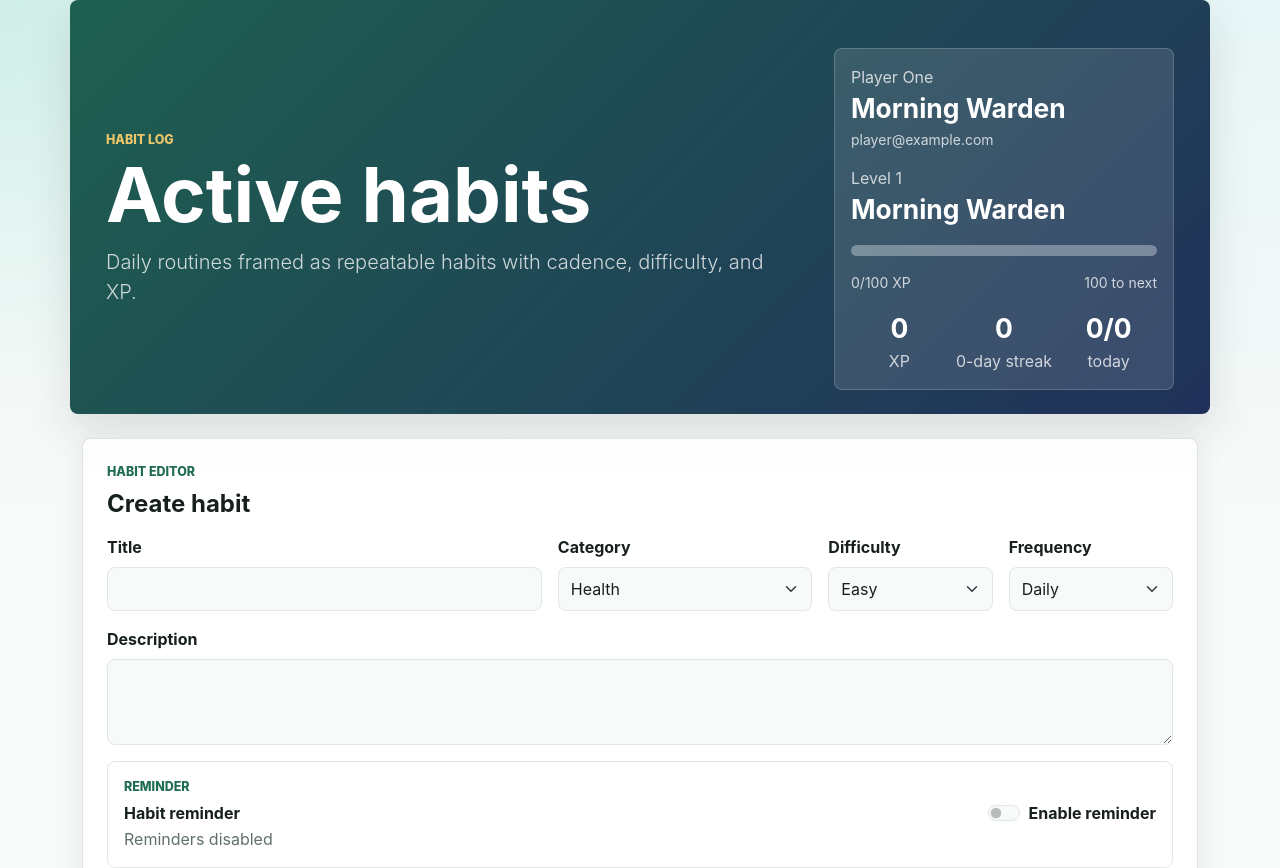
Scenario: Habits API view › creates habits through the API
The width and height of the screenshot is (1280, 868).
Type "Study sprint" into the field with id "habit-title".
click(324, 588); type("Study sprint")  # box [107,566,542,610]
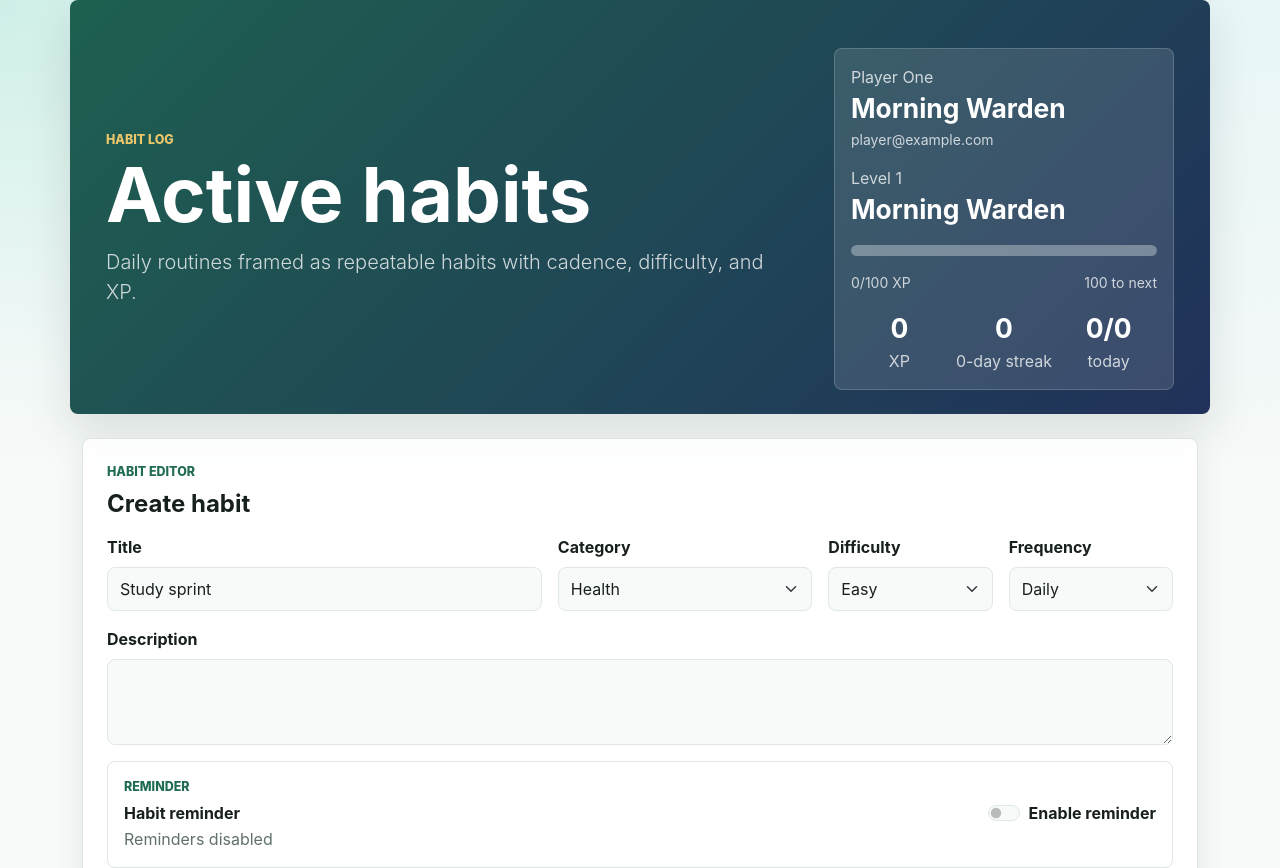
Type "Read one chapter." into the text box with id "habit-description".
click(640, 702); type("Read one chapter.")  # box [107,658,1173,744]
(page scrolled)
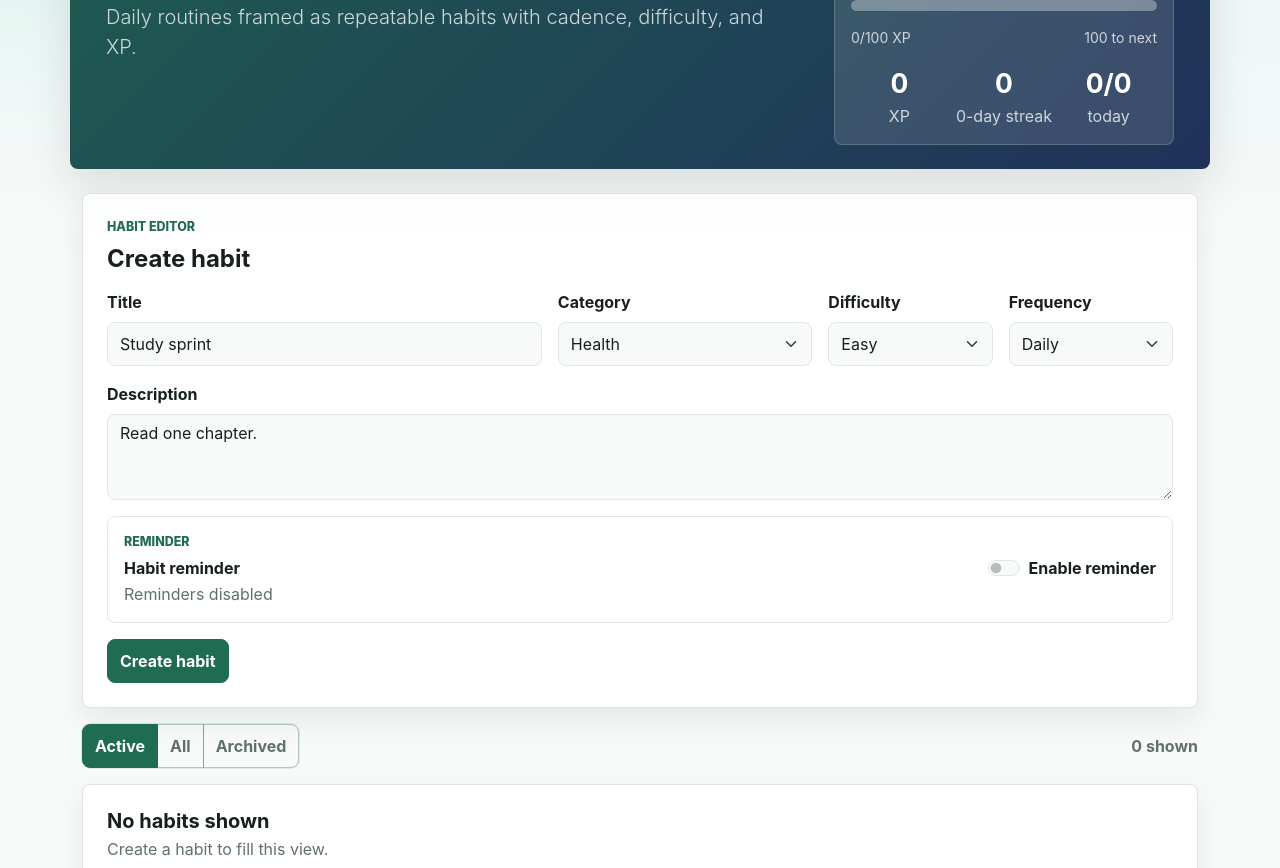
Submit the form, box [83,194,1197,707]
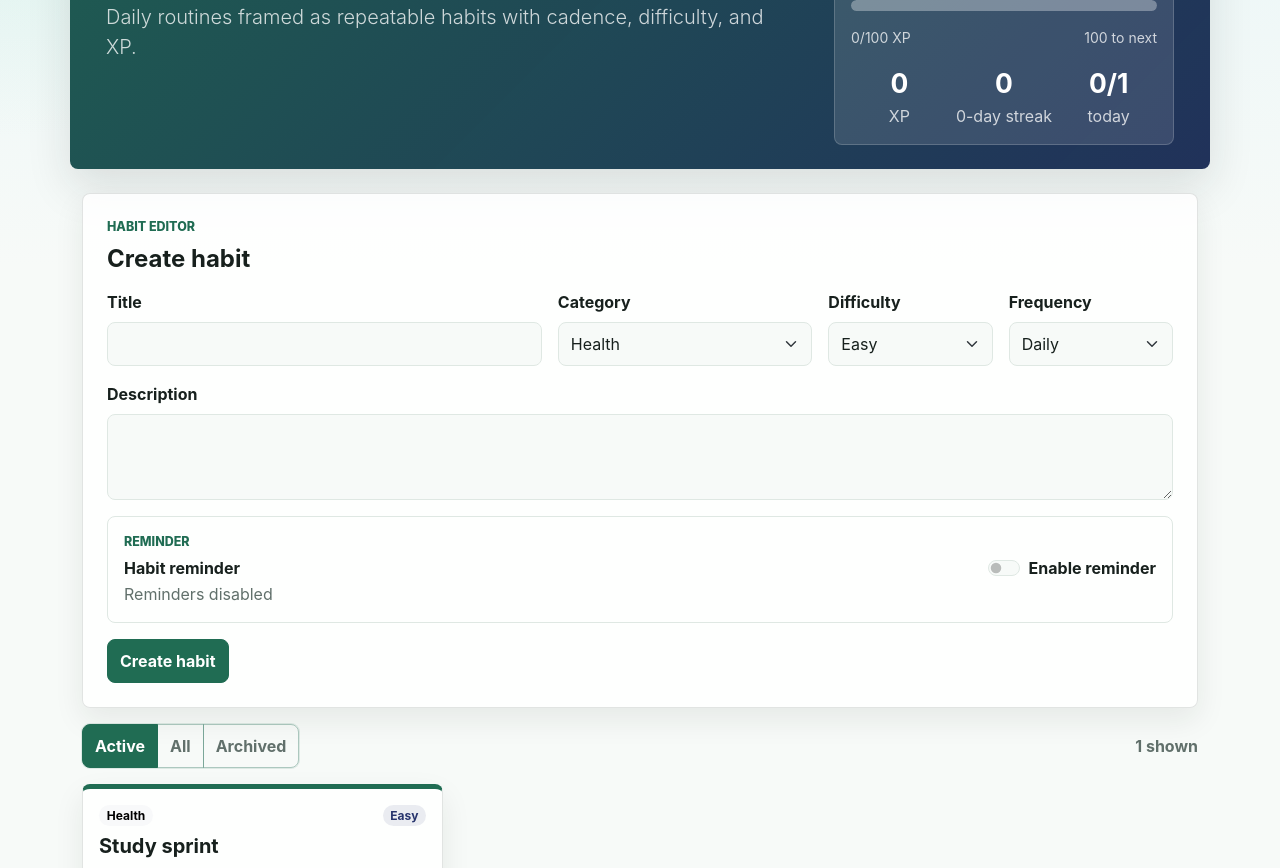
Check: the text "Study sprint" is shown, box [99,834,219,858]
